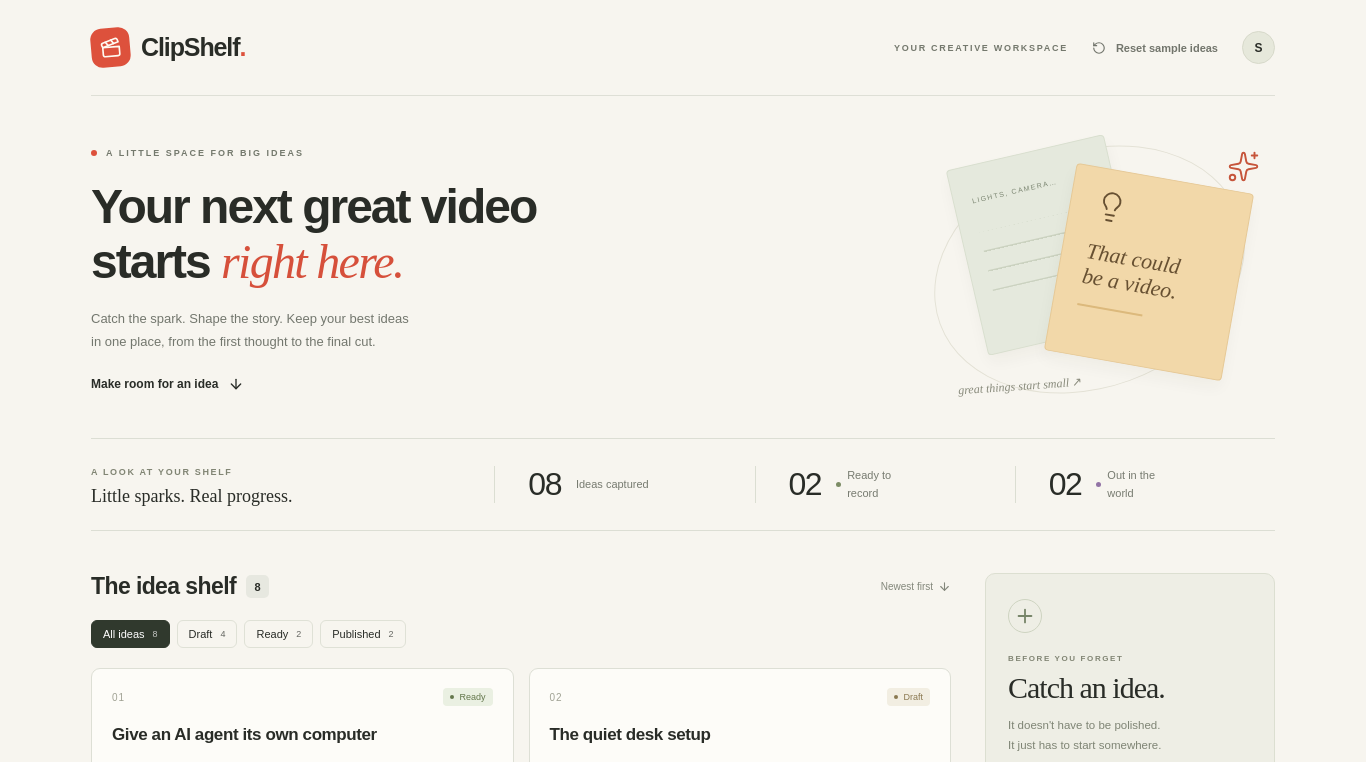
Test: ClipShelf core workflows › keeps the reset dialog open under React StrictMode
This screenshot has width=1366, height=762.
Step 1. Click the button "Reset sample ideas" → (1155, 48), box [1092,30,1218,64]
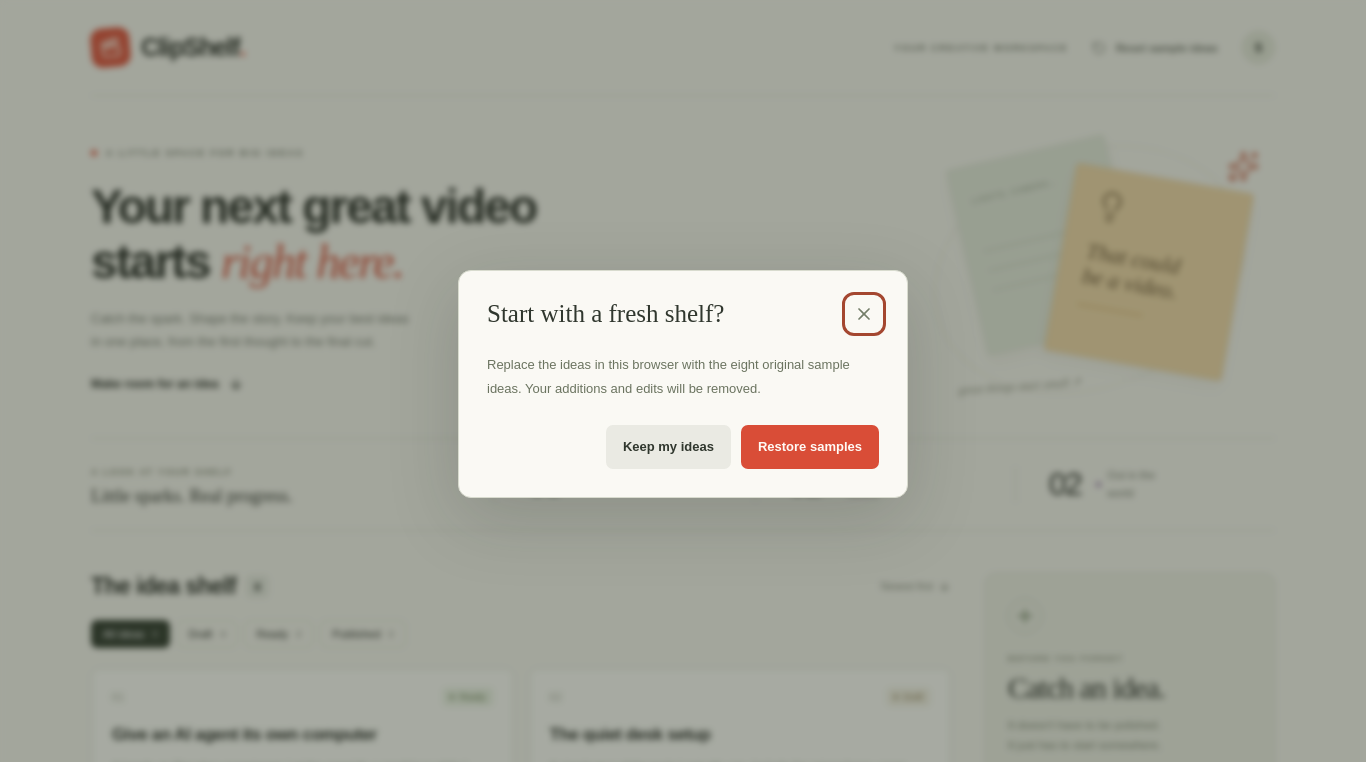
Check: the dialog is shown, box [458,270,908,498]
Step 2. Click the button "Keep my ideas" → (668, 447), box [606,425,731,469]
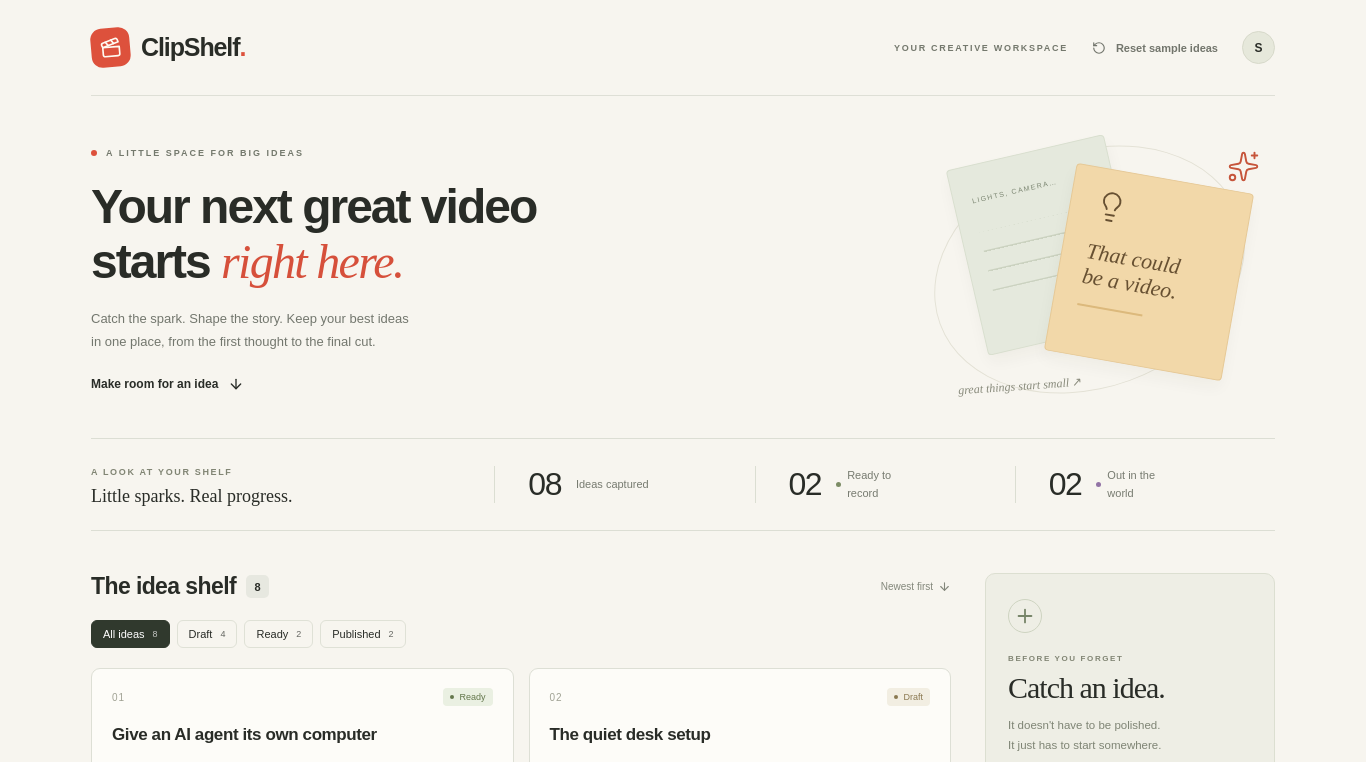
Check: the dialog is gone
